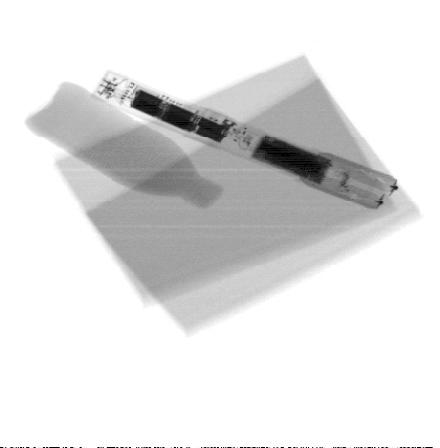Baton: (89, 68, 401, 212)
